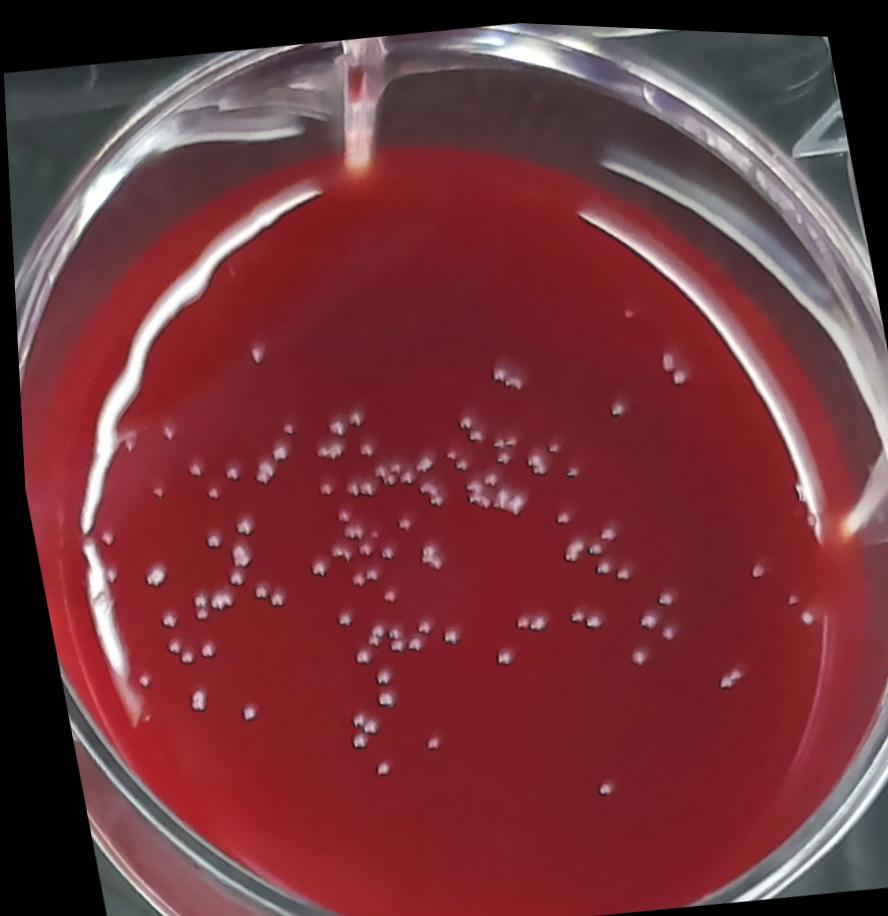staphylo-: (483, 478, 526, 514), (484, 356, 524, 390), (457, 473, 489, 508), (553, 527, 585, 562), (506, 604, 545, 632), (341, 704, 375, 735), (410, 473, 441, 506), (133, 559, 167, 589), (410, 538, 442, 569), (244, 452, 274, 485), (306, 435, 343, 461), (148, 603, 180, 630), (221, 539, 250, 567), (178, 685, 206, 714), (364, 681, 394, 708), (518, 443, 545, 473), (336, 725, 365, 752), (262, 437, 290, 464), (406, 446, 436, 471), (202, 586, 232, 611), (319, 411, 347, 437), (364, 658, 389, 686), (217, 563, 245, 588), (628, 600, 655, 625), (357, 617, 381, 645), (379, 620, 400, 652), (325, 603, 351, 628), (367, 460, 393, 484), (320, 536, 347, 559), (260, 582, 284, 607), (605, 555, 630, 579), (178, 454, 202, 479), (195, 527, 221, 550), (228, 512, 254, 535), (301, 553, 325, 577), (229, 698, 253, 722), (647, 579, 671, 603), (590, 515, 614, 539), (154, 631, 178, 655), (363, 753, 387, 776), (346, 640, 369, 664), (620, 639, 644, 662), (341, 402, 365, 425), (333, 518, 359, 539), (602, 392, 625, 415), (586, 549, 609, 572), (215, 460, 238, 483), (432, 621, 456, 643), (576, 604, 600, 626), (665, 358, 687, 382), (197, 480, 219, 504), (415, 727, 437, 750), (405, 612, 428, 634), (190, 636, 213, 658), (739, 551, 762, 573), (486, 642, 510, 663), (546, 501, 570, 522), (243, 579, 266, 600), (487, 444, 510, 464), (350, 437, 373, 457), (274, 415, 297, 435), (585, 773, 608, 793), (655, 342, 673, 367), (337, 473, 357, 495), (577, 533, 602, 550), (350, 536, 371, 556), (170, 646, 191, 666), (559, 601, 582, 619), (353, 473, 373, 493), (447, 449, 467, 469), (398, 630, 419, 649), (356, 561, 377, 580), (462, 422, 483, 441), (537, 433, 559, 451), (312, 475, 331, 495), (477, 465, 497, 484), (154, 420, 173, 440), (792, 600, 812, 619), (450, 408, 471, 426), (652, 618, 671, 637), (371, 539, 391, 557), (556, 457, 576, 475), (709, 667, 729, 685), (393, 465, 415, 481), (343, 566, 362, 584), (184, 590, 204, 607), (374, 582, 392, 600), (495, 427, 513, 445), (720, 658, 739, 675), (777, 583, 796, 600), (328, 505, 348, 521), (390, 511, 408, 527), (485, 431, 502, 445), (438, 443, 455, 457), (188, 605, 205, 619)
